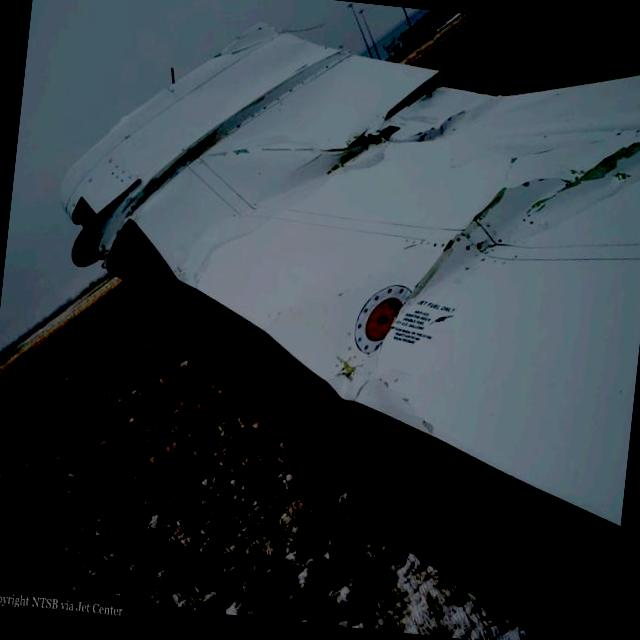crack: (327, 62, 471, 192), (408, 175, 512, 308), (526, 118, 640, 228)
